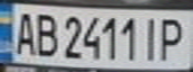1: (118, 14, 142, 61), (100, 14, 121, 61)
2: (57, 11, 84, 60)
4: (81, 12, 103, 61)
A: (9, 8, 39, 56)
B: (30, 9, 60, 58)
I: (139, 14, 163, 62)
P: (157, 14, 190, 62)
